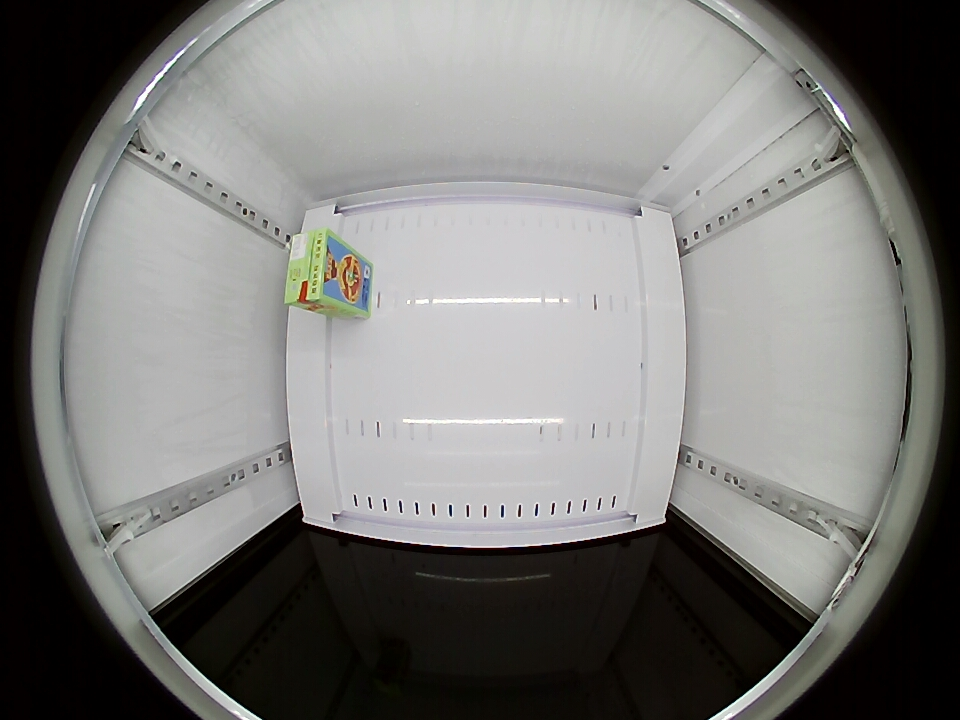wanglaoji: (285, 227, 347, 309)
